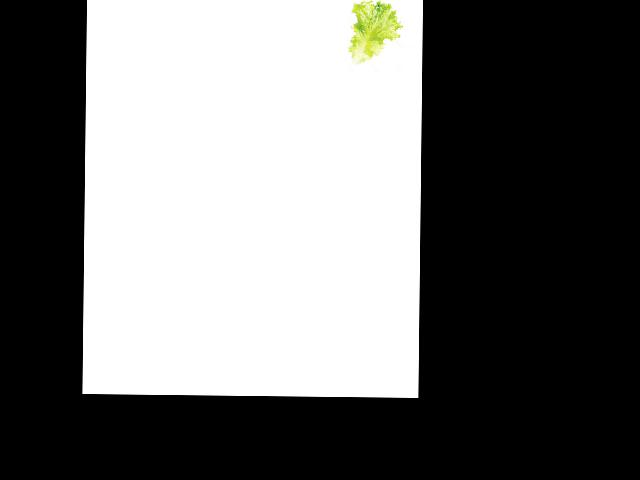lettuce: (350, 0, 402, 66)
